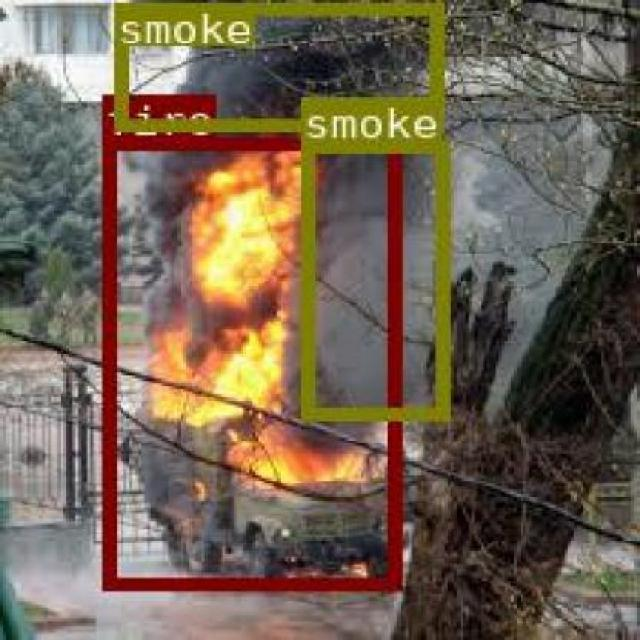Fire: (99, 136, 398, 587)
Smoke: (114, 0, 442, 128), (298, 140, 446, 417)
